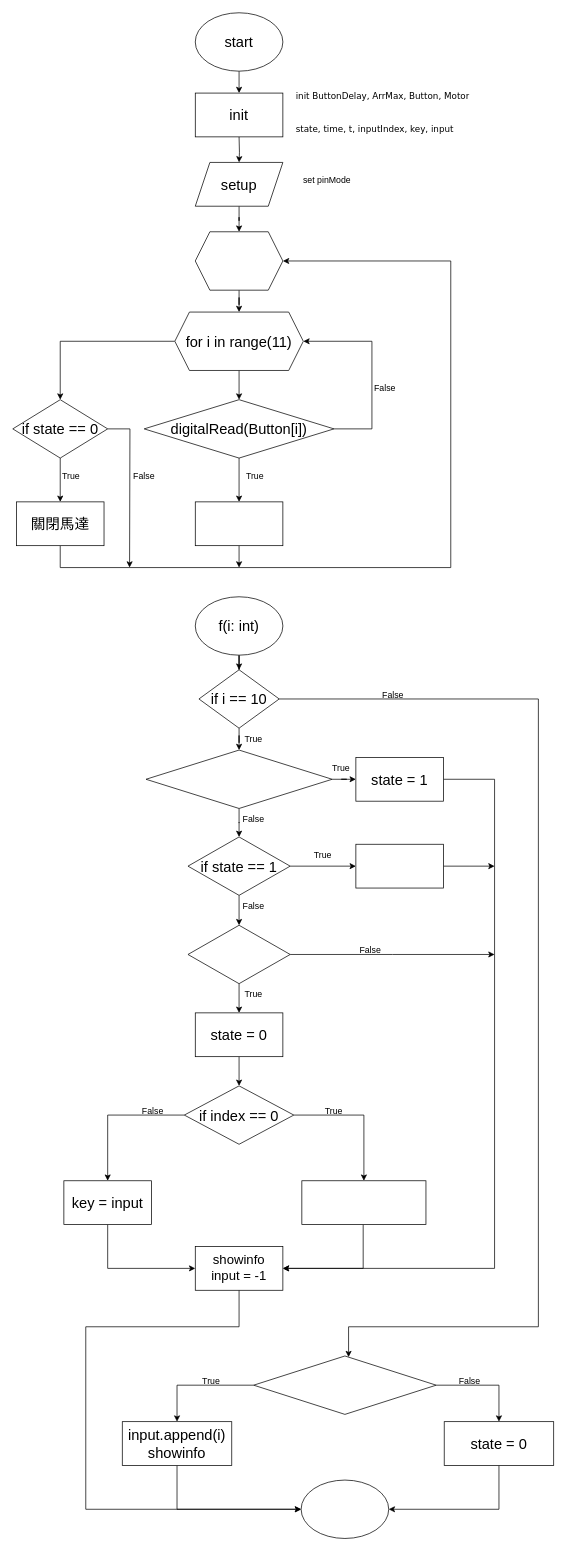
This 566x1551 diagram has some shape labels left out. Here are the shapes that lost their labels. From the top down, the box of each, then its label:
(195, 231, 283, 290): loop
(195, 501, 283, 546): f(i)
(145, 749, 332, 808): if state == 0 and check()
(355, 844, 443, 888): state = 2
(187, 925, 290, 984): if state == 2
(301, 1180, 426, 1225): key = 0, -1, -1......
(253, 1355, 436, 1414): if state == 0 or state == 2
(300, 1479, 389, 1538): return
